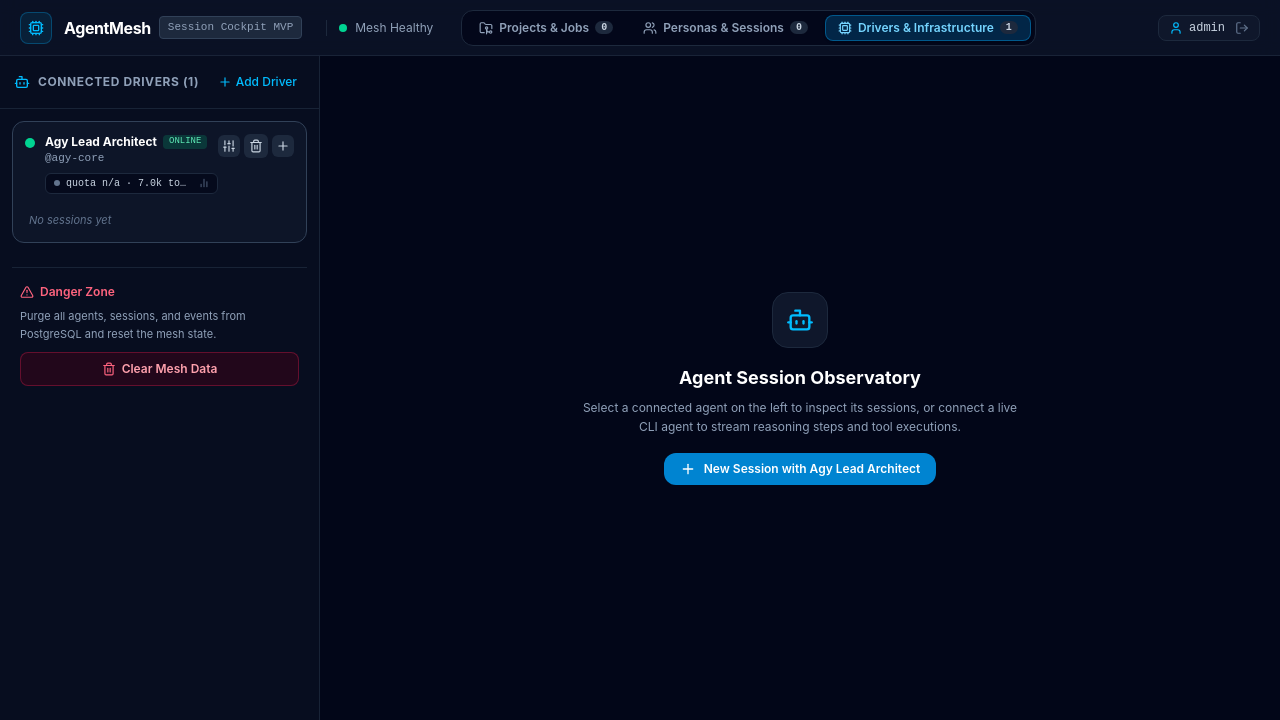
Test: App - Agent-Centric Session Cockpit MVP › shows why the model list is empty instead of inventing one when the driver cannot be read
The image size is (1280, 720).
Expected: the text "Agy Lead Architect" is shown, [45,134,157,150]
Step 1. Click the button named "New Session with Agy Lead Architect" → x=283, y=146, box [272,135,294,157]
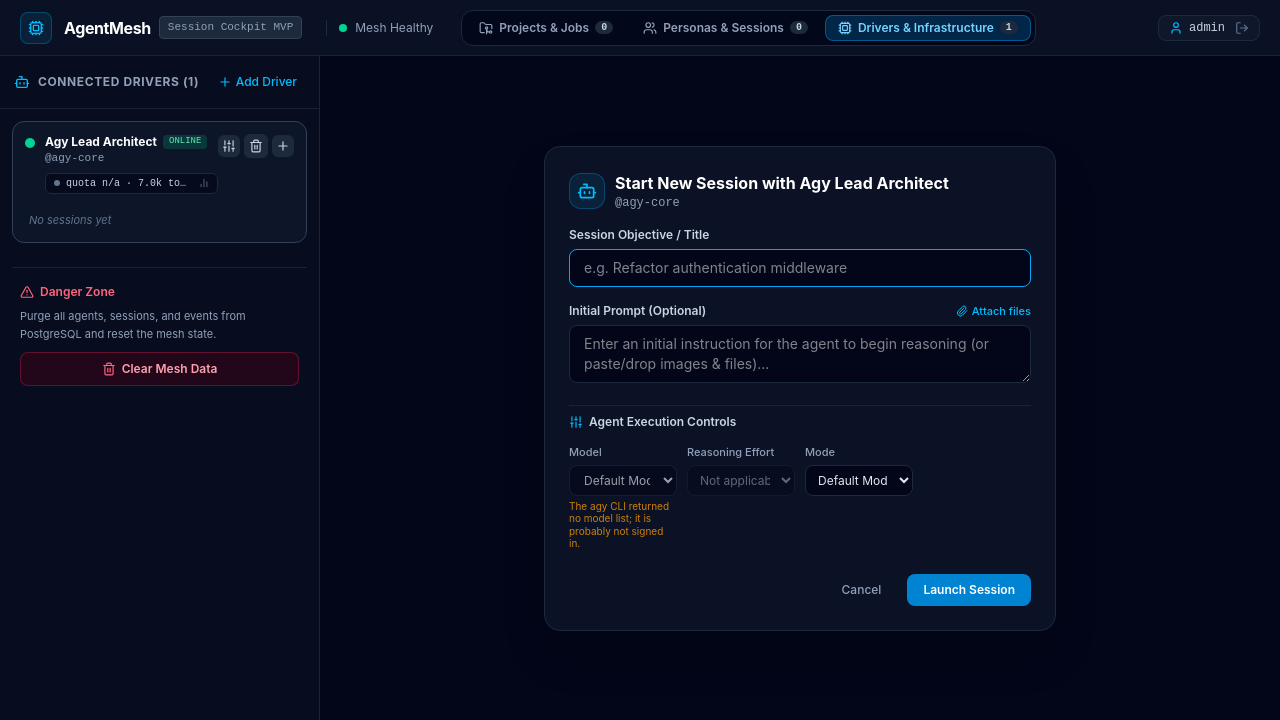
Expected: the heading "Start New Session with Agy Lead Architect" is shown, [615,170,949,194]
Expected: the text "The agy CLI returned no model list; it is probably not signed in." is shown, [569,500,677,550]
